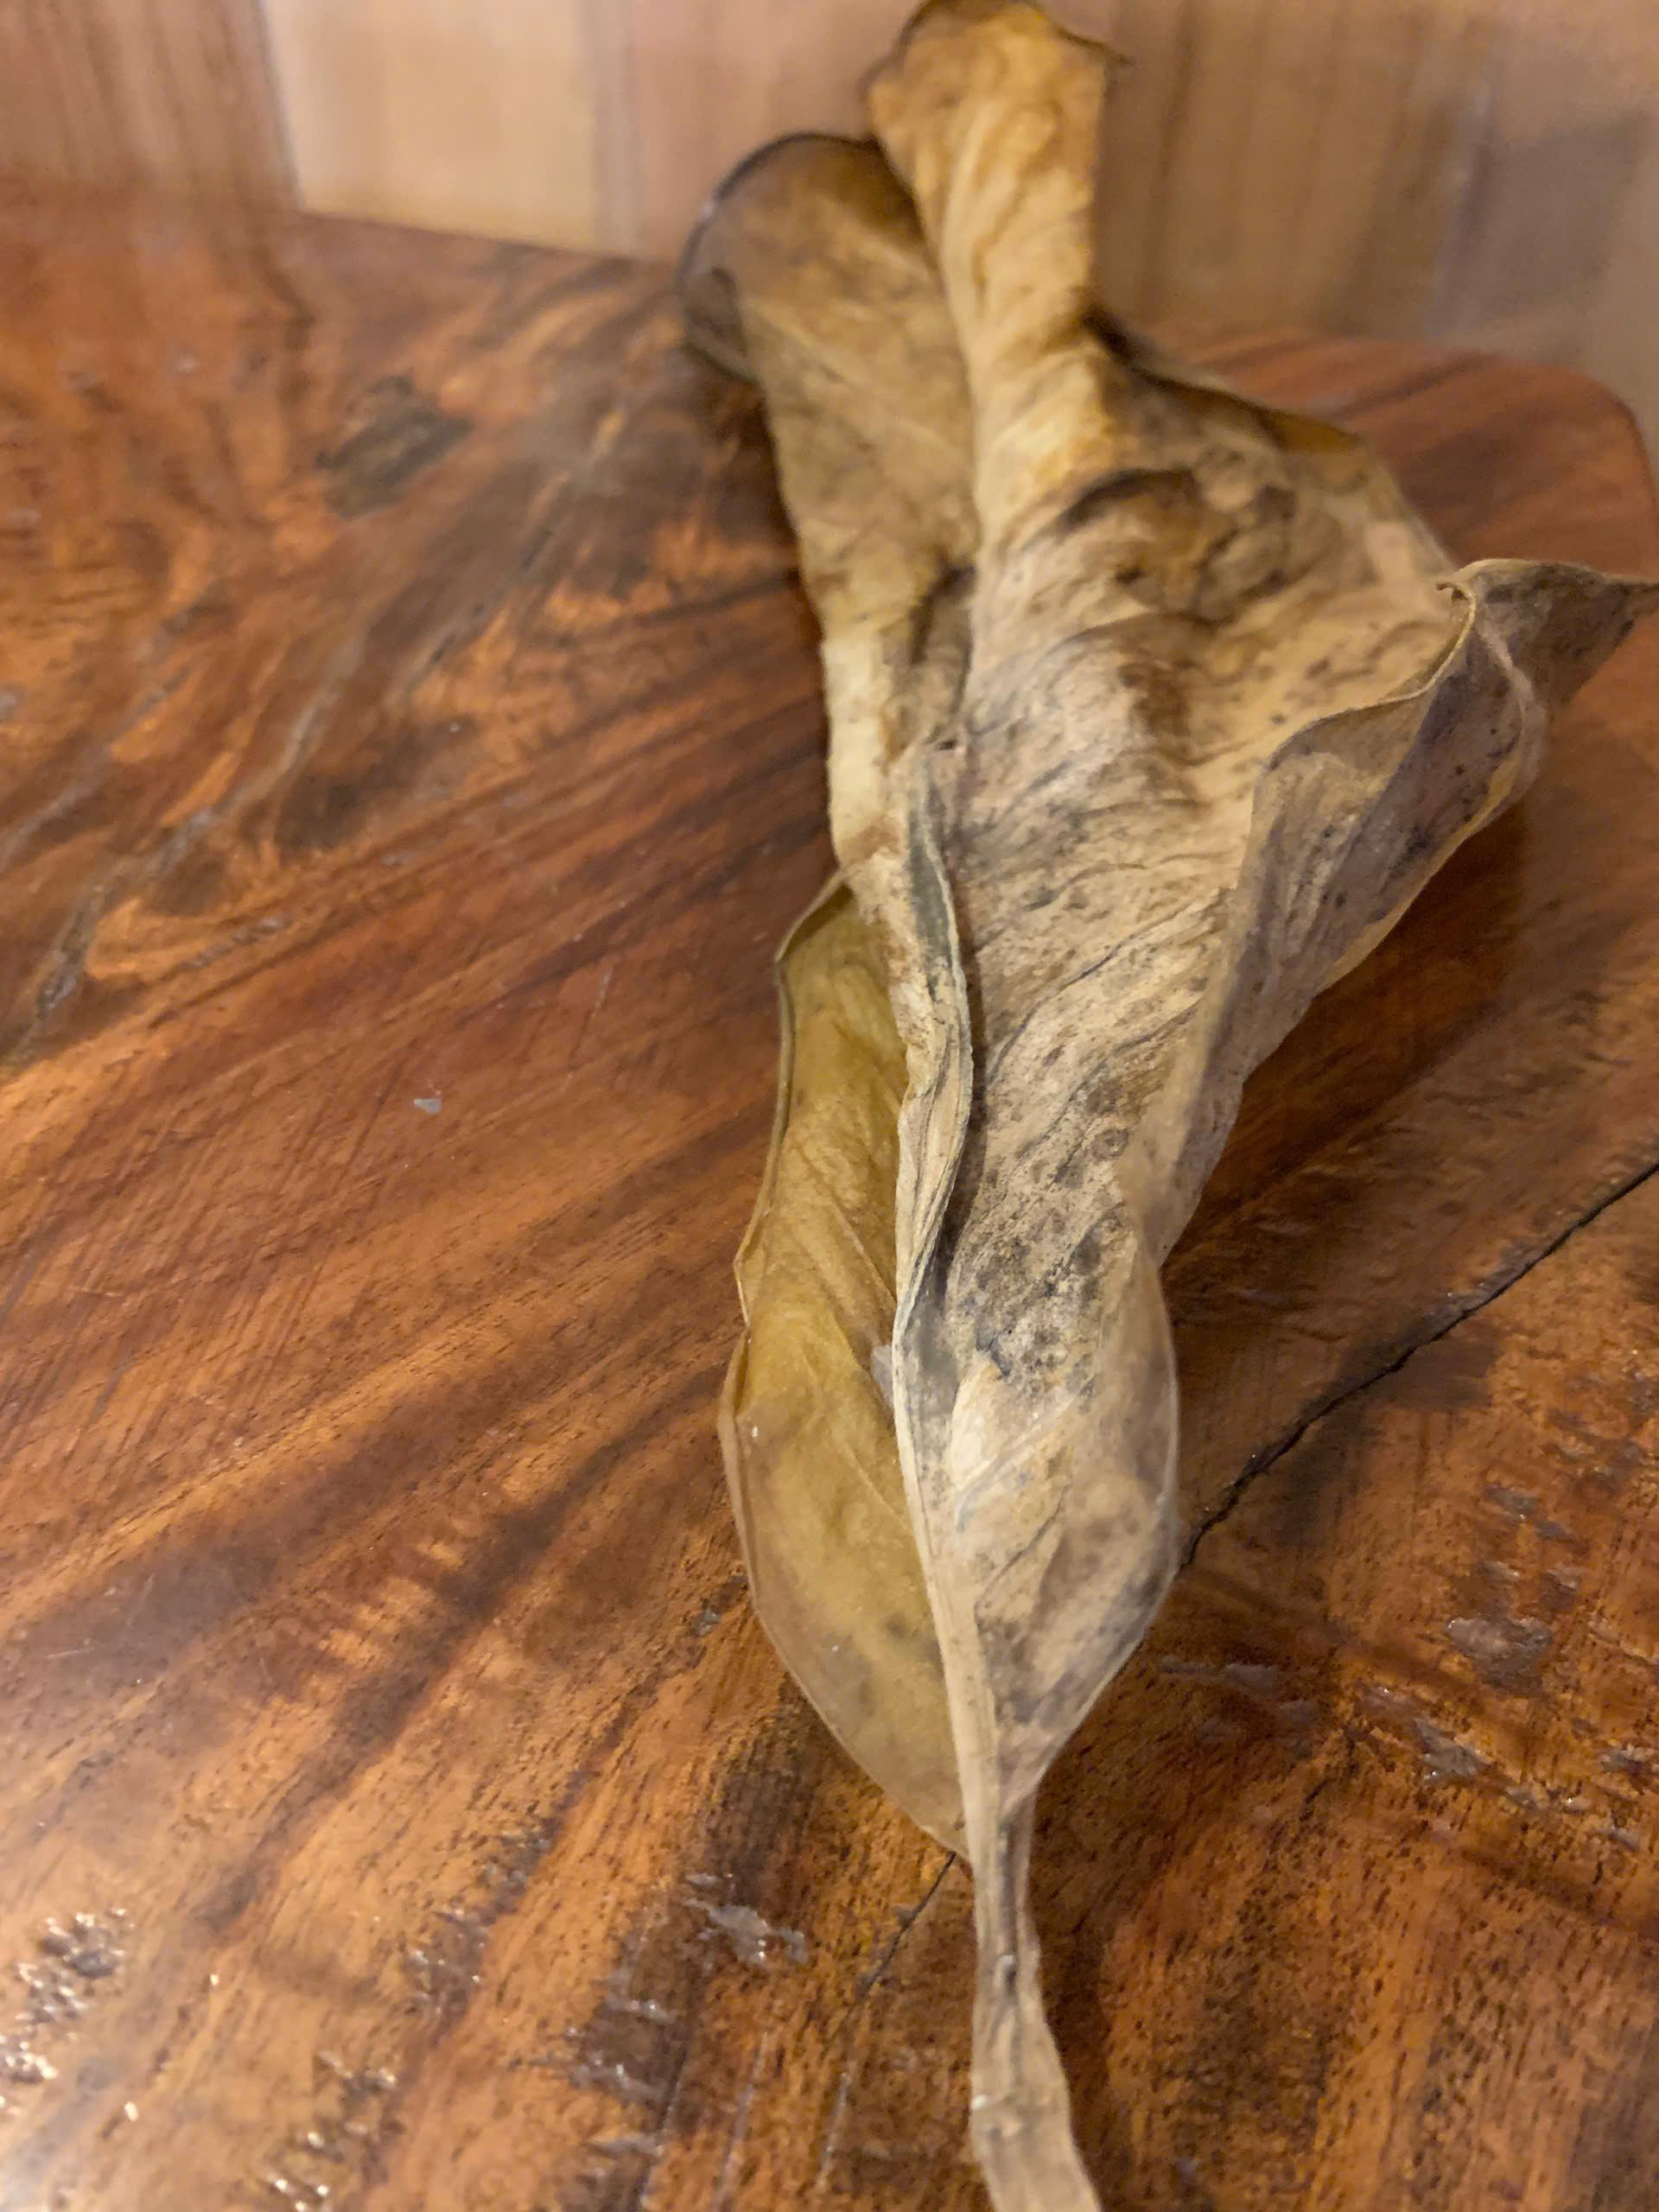Huu co: (727, 61, 1617, 2210)
